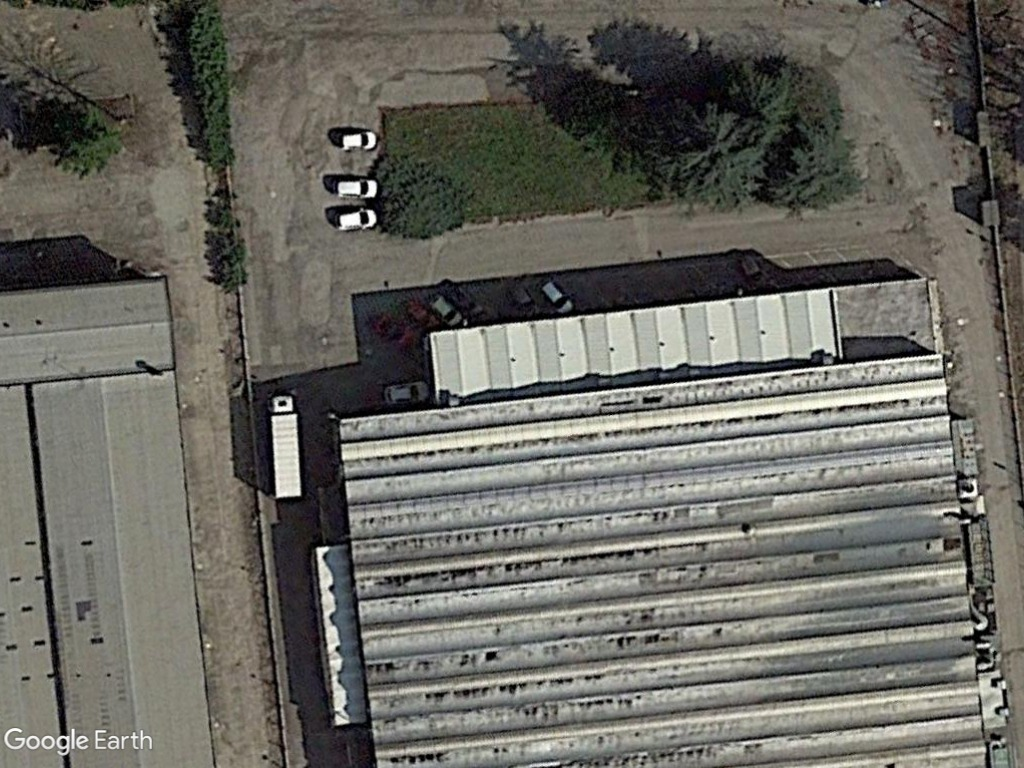car: (532, 275, 574, 315), (424, 292, 470, 328), (332, 205, 382, 236), (381, 379, 432, 408), (330, 173, 381, 201), (334, 127, 380, 153)
longvehicle: (265, 386, 312, 503)
